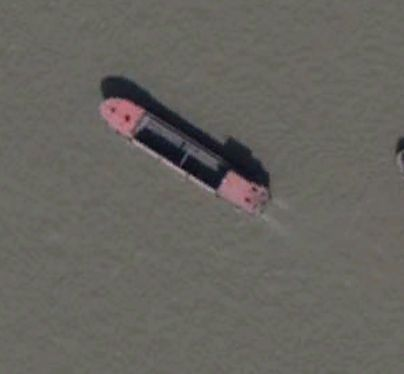boat: (96, 96, 272, 217)
